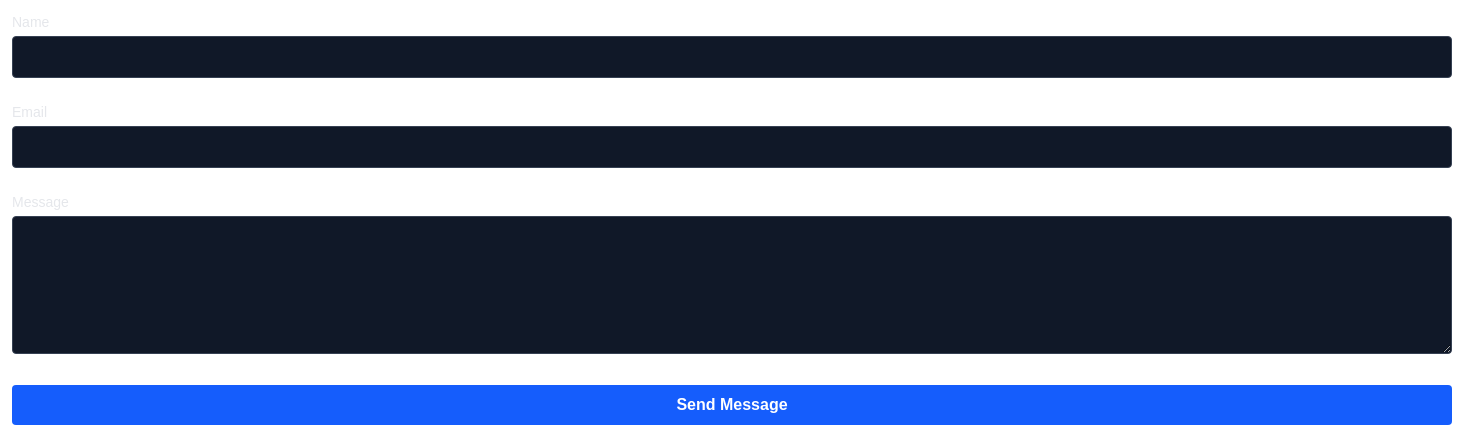
it: ContactForm › disables submit button while submitting
// Fill out form
Type "John Doe" into the field labelled "Name". click: (732, 57)
box: x1=12 y1=36 x2=1452 y2=78
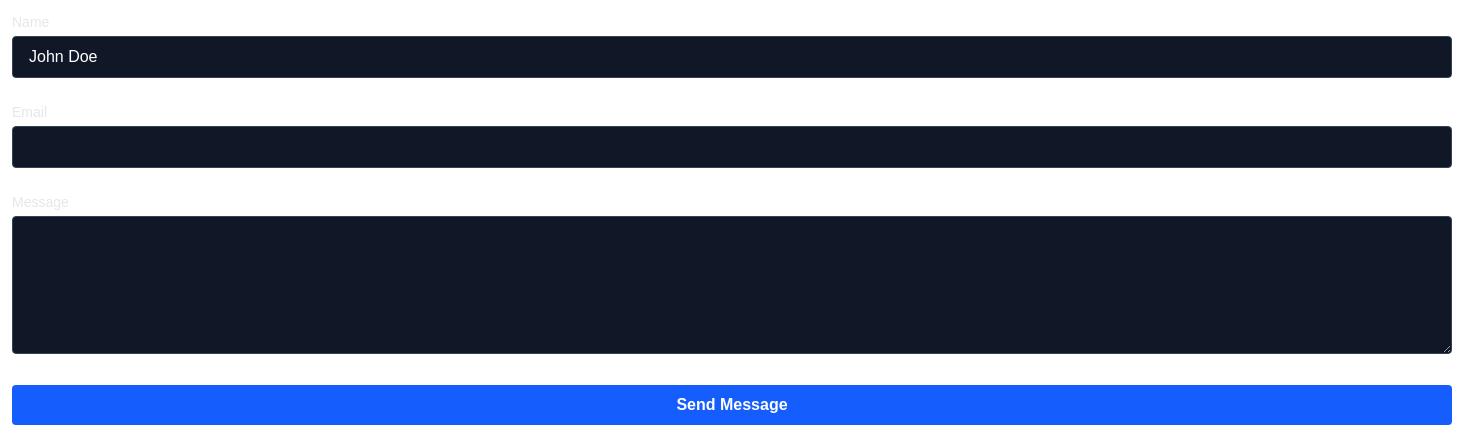
Type "john@example.com" into the field labelled "Email". click: (732, 147)
box: x1=12 y1=126 x2=1452 y2=168
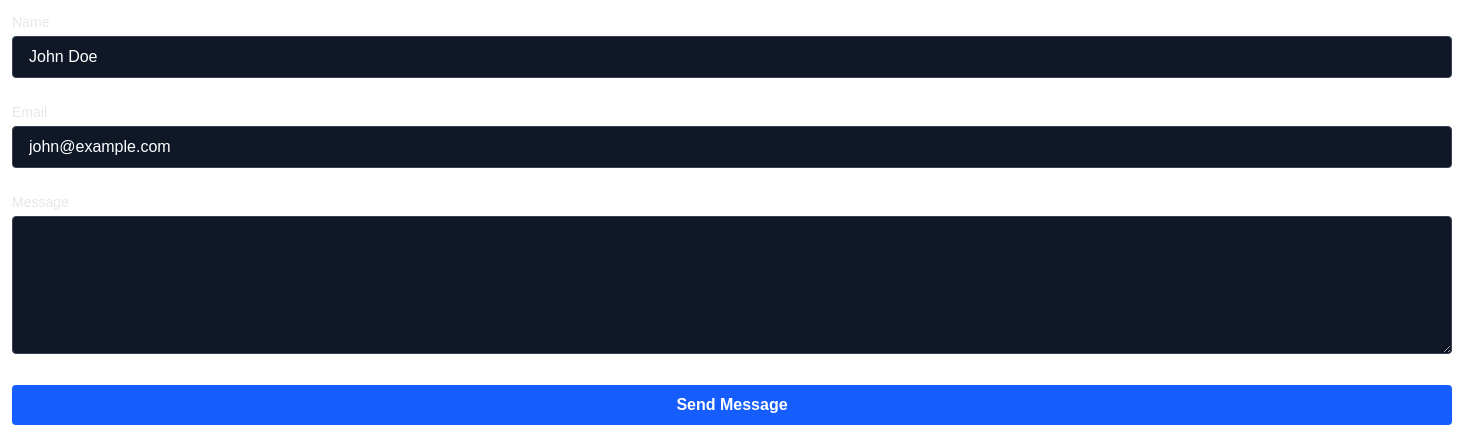
Type "Hello from John" into the text box labelled "Message". click: (732, 285)
box: x1=12 y1=216 x2=1452 y2=354
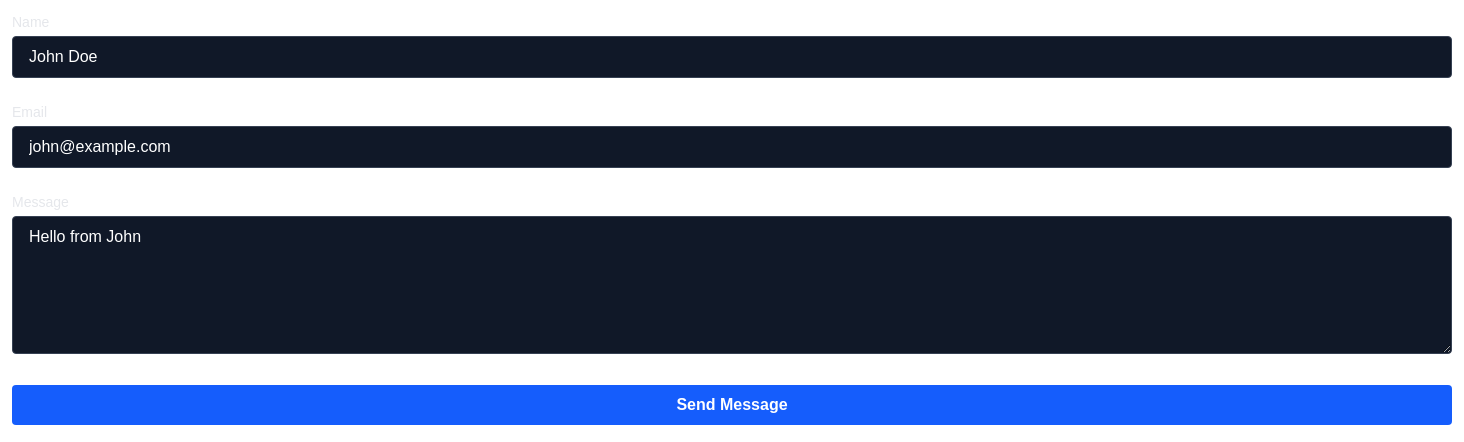
Click the button "Send Message". click: (732, 405)
box: x1=12 y1=385 x2=1452 y2=425
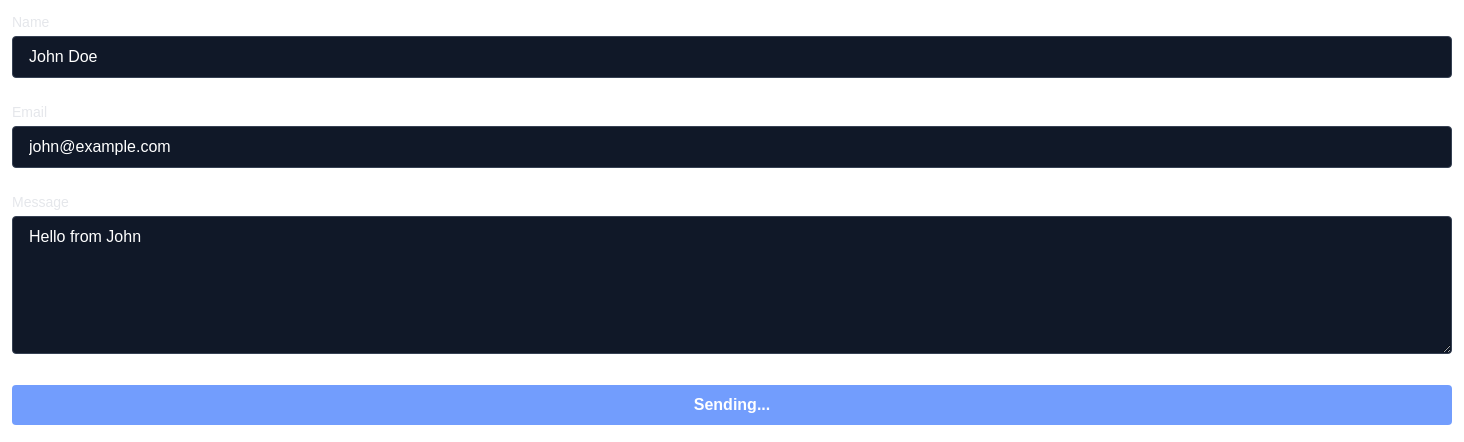
Expected: the button named "Send Message" is disabled, x1=12 y1=385 x2=1452 y2=425
